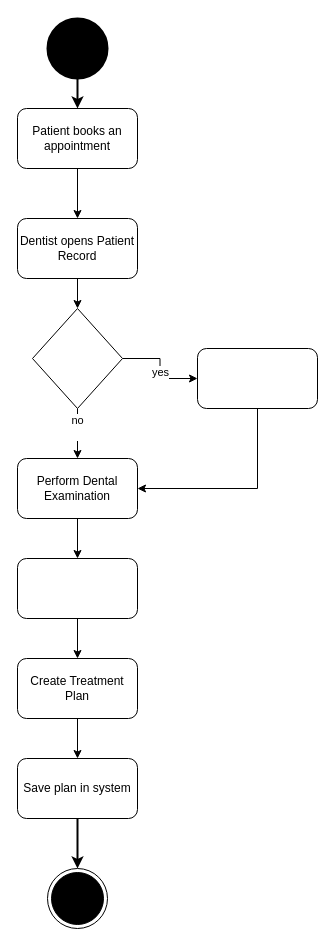
This 335x946 diagram has some shape labels left out. Each missing label, with the box of its shape:
Establish Diagnosis: (16, 558, 138, 618)
Is X-Ray needed?: (32, 308, 122, 408)
Perform X-Ray and Upload image: (196, 348, 318, 408)
